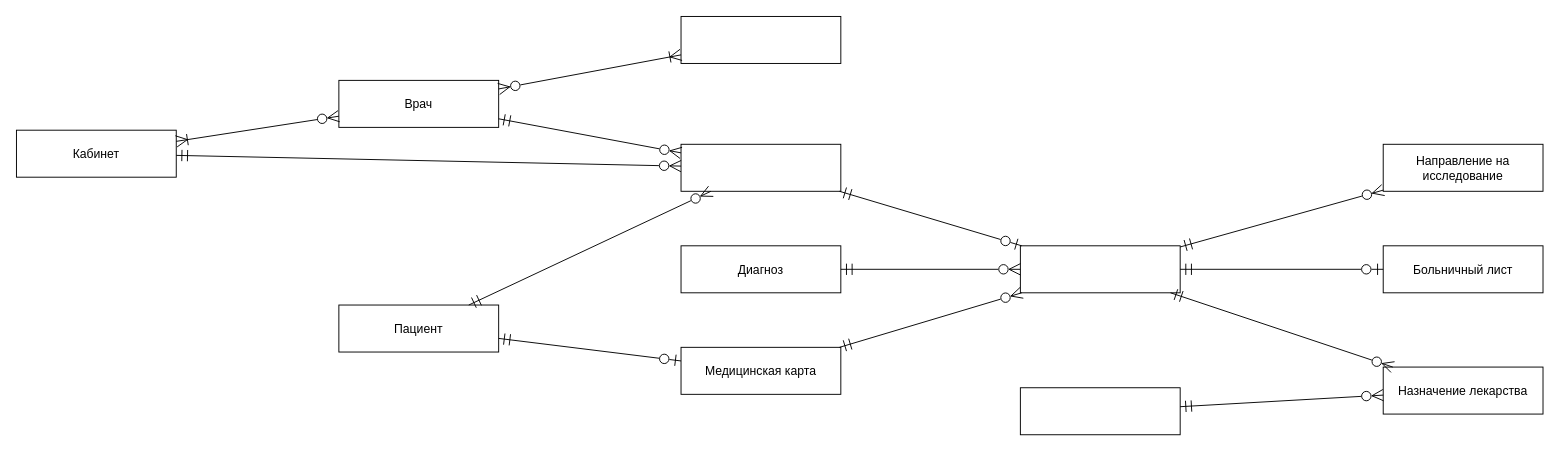
Image size: 1559x451. Some labels were removed from this diagram. Here are the shapes that lost their labels. From the top down, the centre of each, then its label:
the point at 760,39: Специальность
the point at 760,167: Запись на приём
the point at 1099,269: Приём
the point at 1099,411: Лекарство
